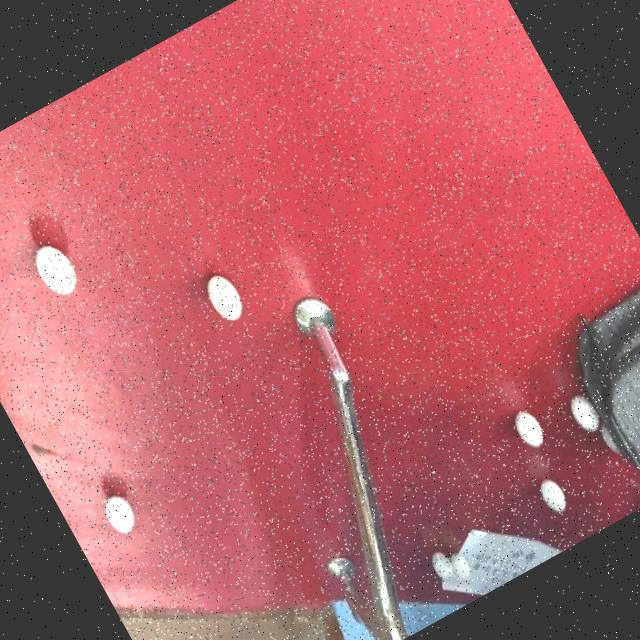ping-pong-ball: (22, 231, 88, 309), (196, 264, 251, 328), (94, 487, 142, 543), (560, 384, 608, 440), (506, 402, 550, 456), (534, 473, 572, 518), (444, 543, 478, 585), (426, 548, 459, 587)
